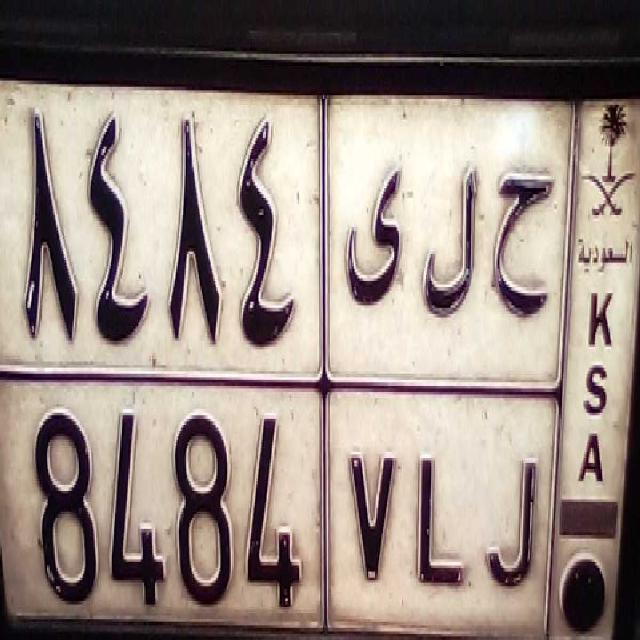license_plate: (12, 370, 550, 640)
